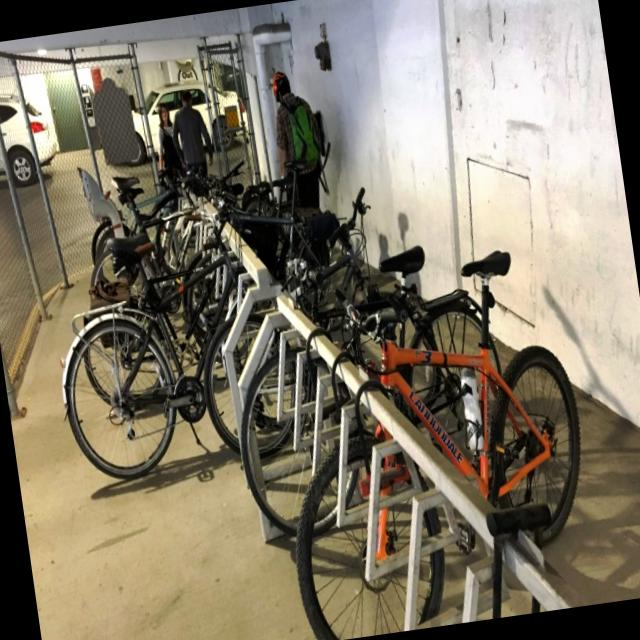bike: (257, 242, 606, 640), (216, 236, 520, 544), (36, 186, 308, 484), (178, 181, 451, 464)
